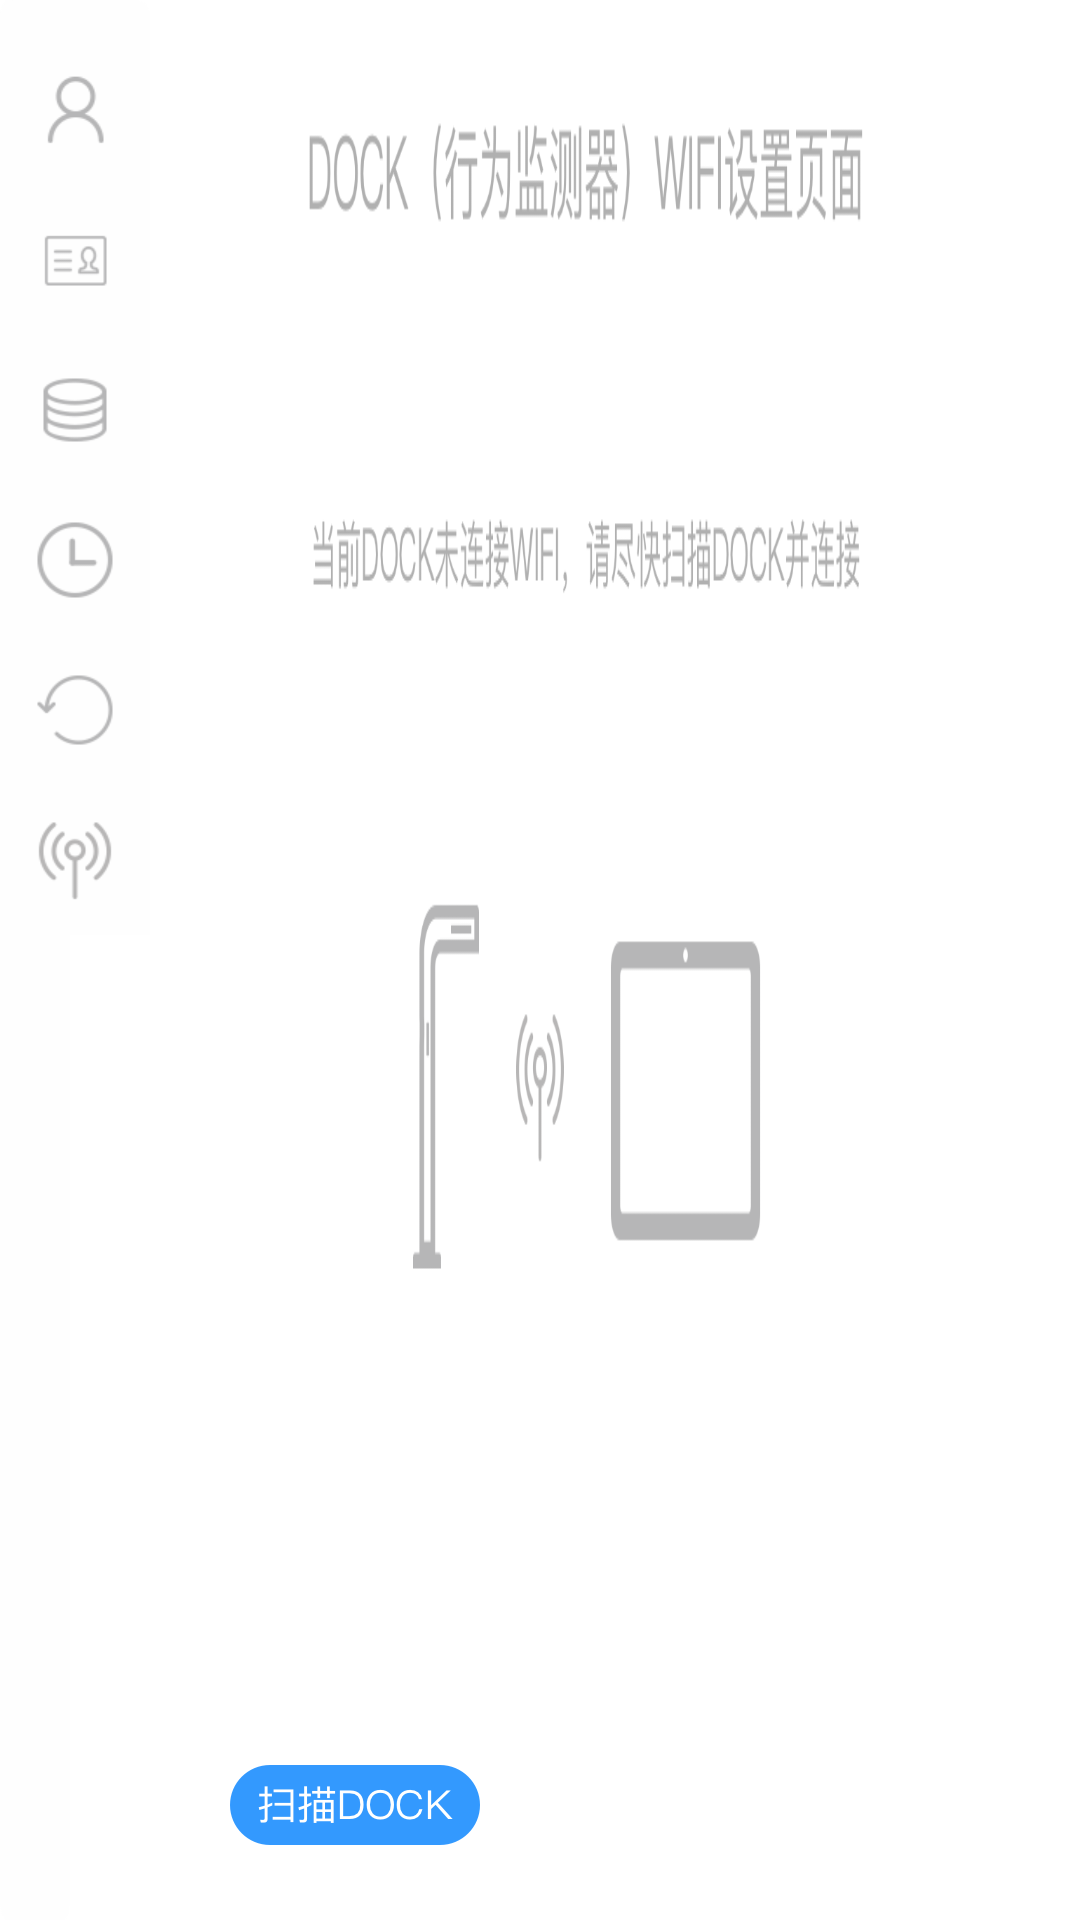

Icon click points for this 1080×1920 phone screenshot, format (x,y):
settings tab id: (76,261)
settings tab info: (76,109)
settings tab reset: (75,710)
settings tab stock: (75,410)
settings tab time: (75,560)
